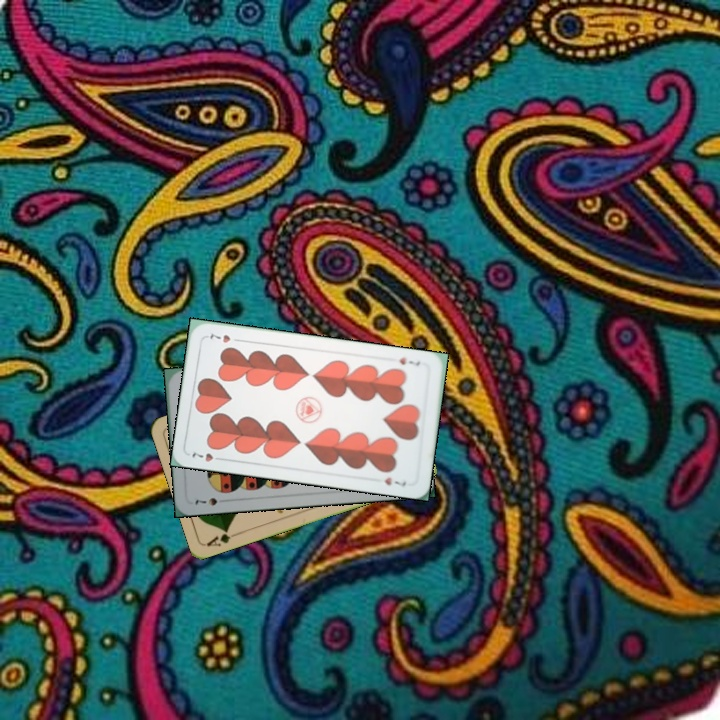GA: (203, 525, 243, 549)
H7: (188, 448, 227, 464), (395, 353, 423, 369)
S7: (191, 494, 230, 508)
